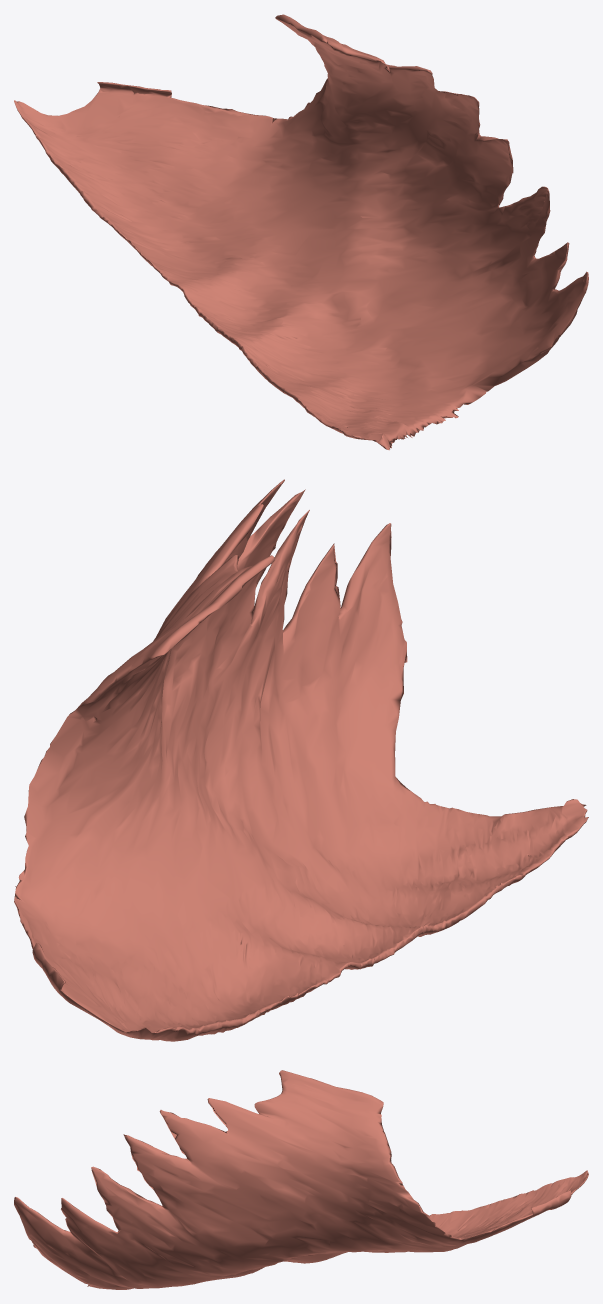
The picture shows the model from 3 angles, top to bottom: view 1: azimuth 30°, elevation 25°; view 2: azimuth 150°, elevation 25°; view 3: azimuth 270°, elevation 25°; orthographic projection. The views are drawn at different scales.
Visible parts, largest first — view 1: 左侧腹外斜肌; view 2: 左侧腹外斜肌; view 3: 左侧腹外斜肌.
Part boxes in pixels (x1=…): 左侧腹外斜肌: x1=14, y1=14, x2=588, y2=450; 左侧腹外斜肌: x1=14, y1=479, x2=588, y2=1041; 左侧腹外斜肌: x1=14, y1=1070, x2=588, y2=1289.
Bounding box in the file's own units: 0.2006 × 0.2651 × 0.6161.
